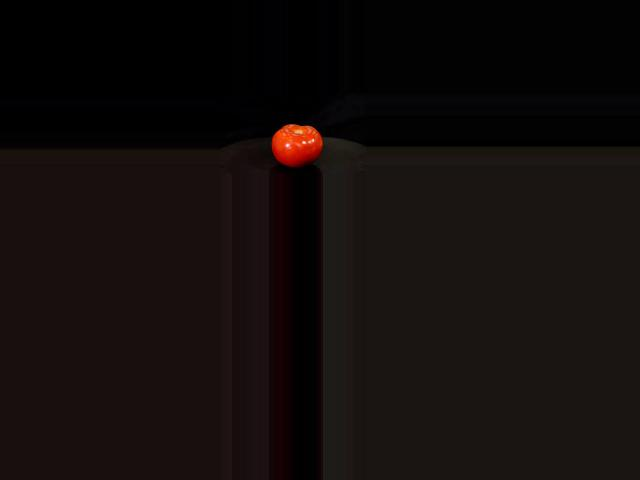tomato: (270, 124, 322, 167)
